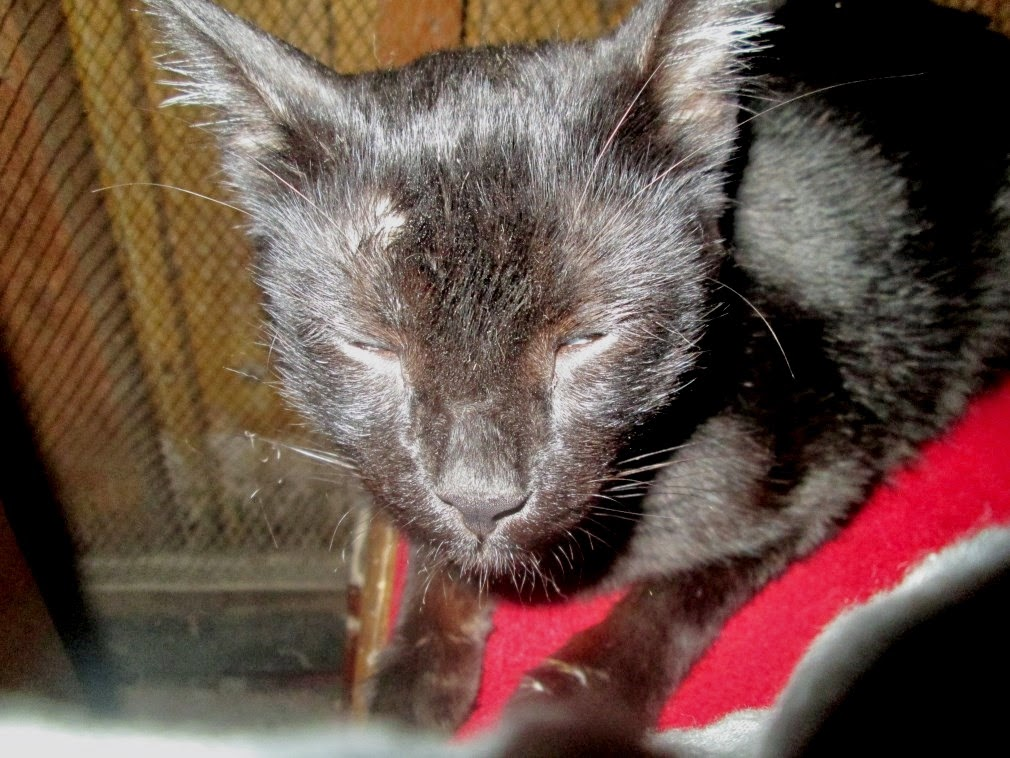cat: (120, 1, 1010, 712)
